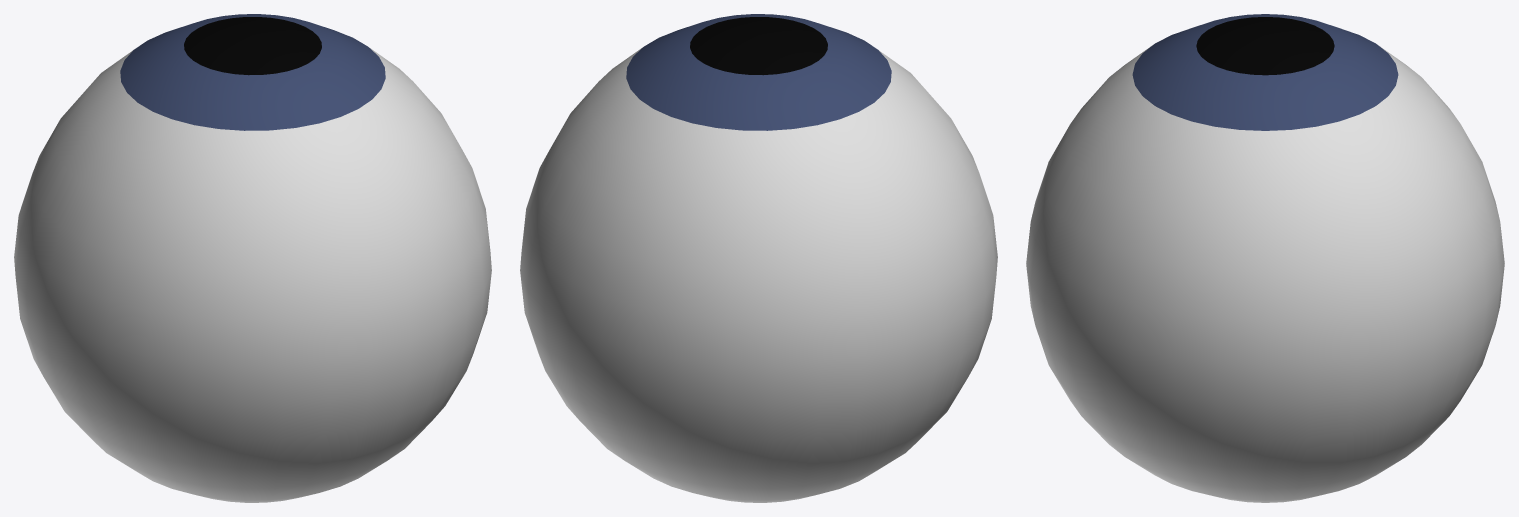
File: EyeMesh.fbx
3 renders of one model, left to right at view 1: azimuth 30°, elevation 25°; view 2: azimuth 150°, elevation 25°; view 3: azimuth 270°, elevation 25°, orthographic.
Parts seen in each view (by area): view 1: Sphere; view 2: Sphere; view 3: Sphere.
Boxes of the visible parts, x1=… form: Sphere: x1=14, y1=14, x2=491, y2=502; Sphere: x1=520, y1=14, x2=997, y2=502; Sphere: x1=1026, y1=14, x2=1504, y2=502.
Size of the model in its own units: 100 by 103 by 100.
